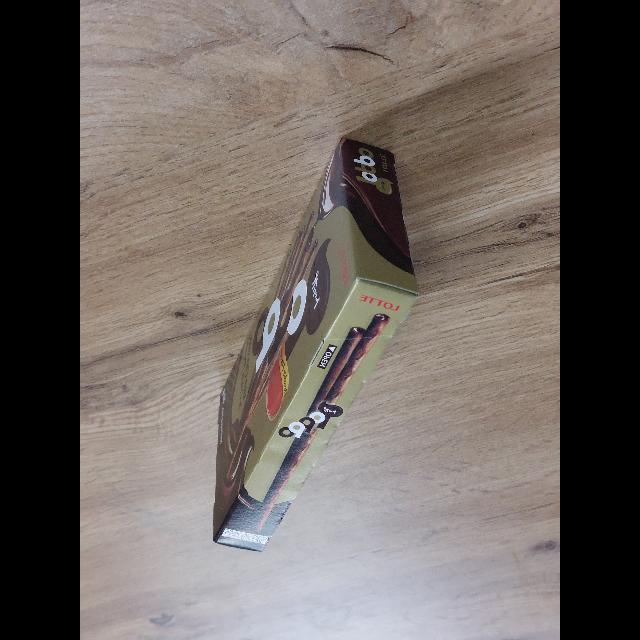banh_toppo_socola: (211, 137, 418, 552)
